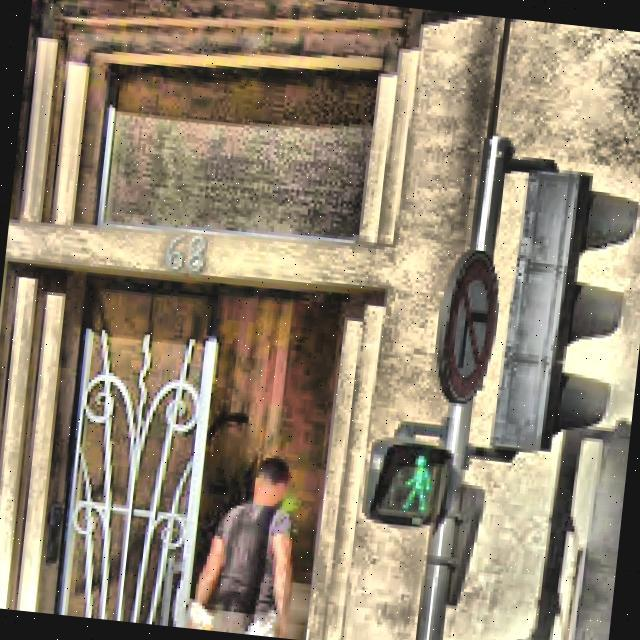green_light: (396, 445, 436, 516)
